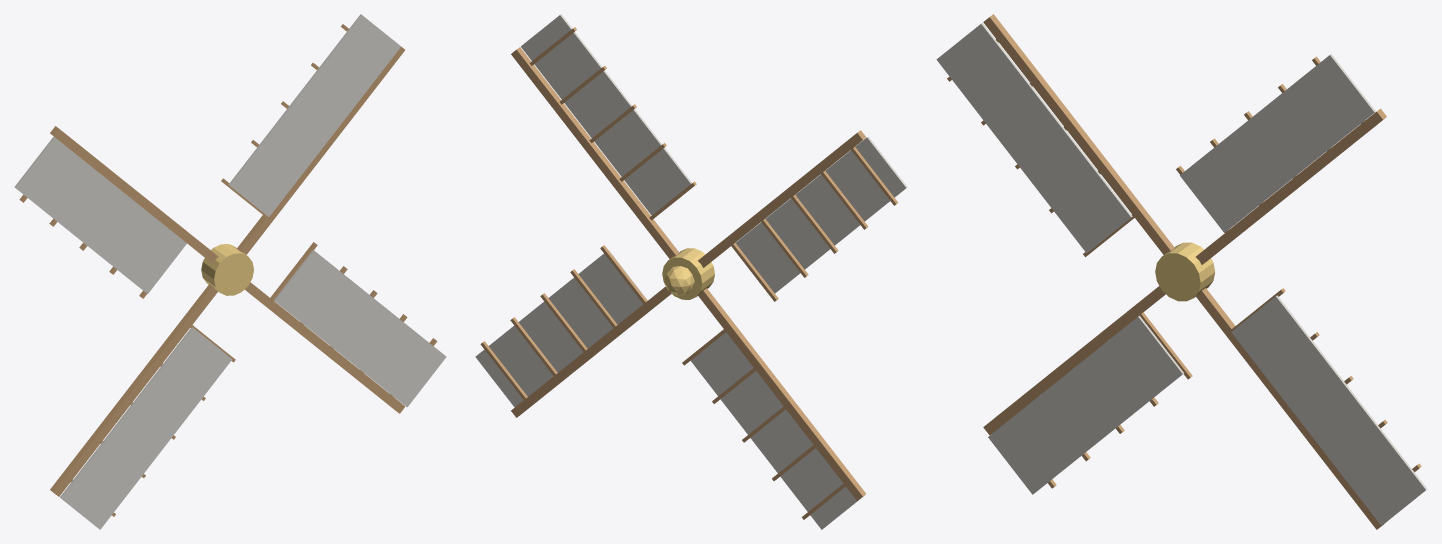
The model's file is HOB_Bld_FlourMill_Blades.fbx.
3 views of the same model, side by side, from view 1: azimuth 30°, elevation 25°; view 2: azimuth 150°, elevation 25°; view 3: azimuth 330°, elevation 25° (orthographic). The views are drawn at different scales.
Visible parts, largest first — view 1: HOB_Bld_FlourMill_Blades; view 2: HOB_Bld_FlourMill_Blades; view 3: HOB_Bld_FlourMill_Blades.
Part boxes in pixels (left/top/right/bottom): HOB_Bld_FlourMill_Blades: left=14, top=14, right=446, bottom=529; HOB_Bld_FlourMill_Blades: left=475, top=14, right=907, bottom=529; HOB_Bld_FlourMill_Blades: left=936, top=14, right=1427, bottom=529.
Bounding box in the file's own units: 968 × 968 × 90.
